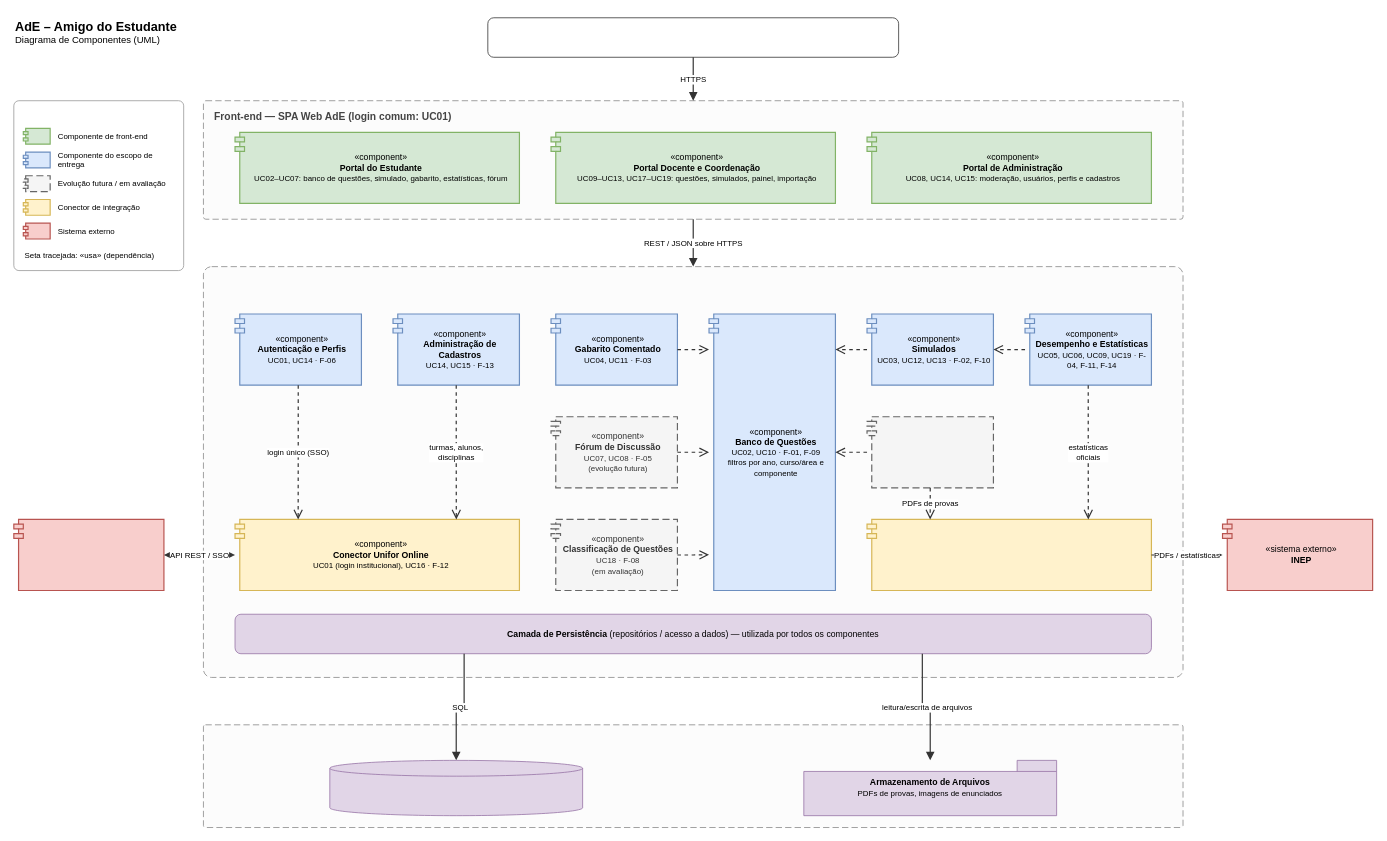
Some shapes in this 1387 by 841 pixel diagram are drawn without their labels. Each missing label, with the box of its shape:
Back-end — API REST AdE (controle de acesso por perfil em todos os endpoints): (203, 266, 1183, 677)
Banco de Dados Relacional questões, simulados, usuários, desempenho: (329, 760, 583, 816)
Camada de Dados: (203, 724, 1183, 828)
Legenda: (13, 100, 184, 271)
Usuários (navegador web) Estudante · Professor · Coordenação · Equipe Técnica: (487, 17, 899, 57)
«component» Conector INEP UC17, UC19 · F-07, F-14: (866, 518, 1152, 591)
«component» Importação de Provas UC17 · F-07 (em avaliação): (866, 416, 994, 488)
«sistema externo» Unifor Online: (13, 518, 164, 591)
